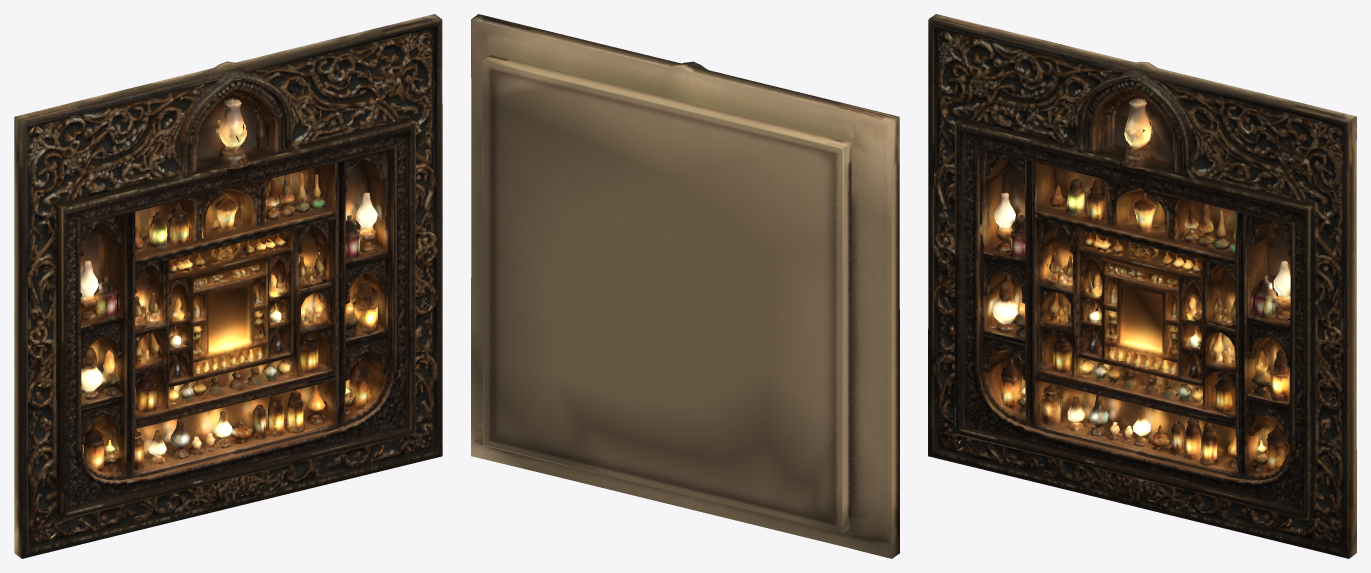
File: Ornate_Lantern_Galler.fbx
3 renders of one model, left to right at view 1: azimuth 30°, elevation 25°; view 2: azimuth 150°, elevation 25°; view 3: azimuth 330°, elevation 25°, orthographic.
Visible parts, largest first — view 1: Ornate_Lantern_Galler_LOD0; view 2: Ornate_Lantern_Galler_LOD0; view 3: Ornate_Lantern_Galler_LOD0.
Boxes of the visible parts, x1,y1,x2,y2 form: Ornate_Lantern_Galler_LOD0: [14, 14, 442, 558]; Ornate_Lantern_Galler_LOD0: [471, 14, 899, 558]; Ornate_Lantern_Galler_LOD0: [928, 14, 1356, 558].
Size of what is drawn, in the model's own units: 1.9 by 1.9 by 0.2796.
1 material, 1 textured.
